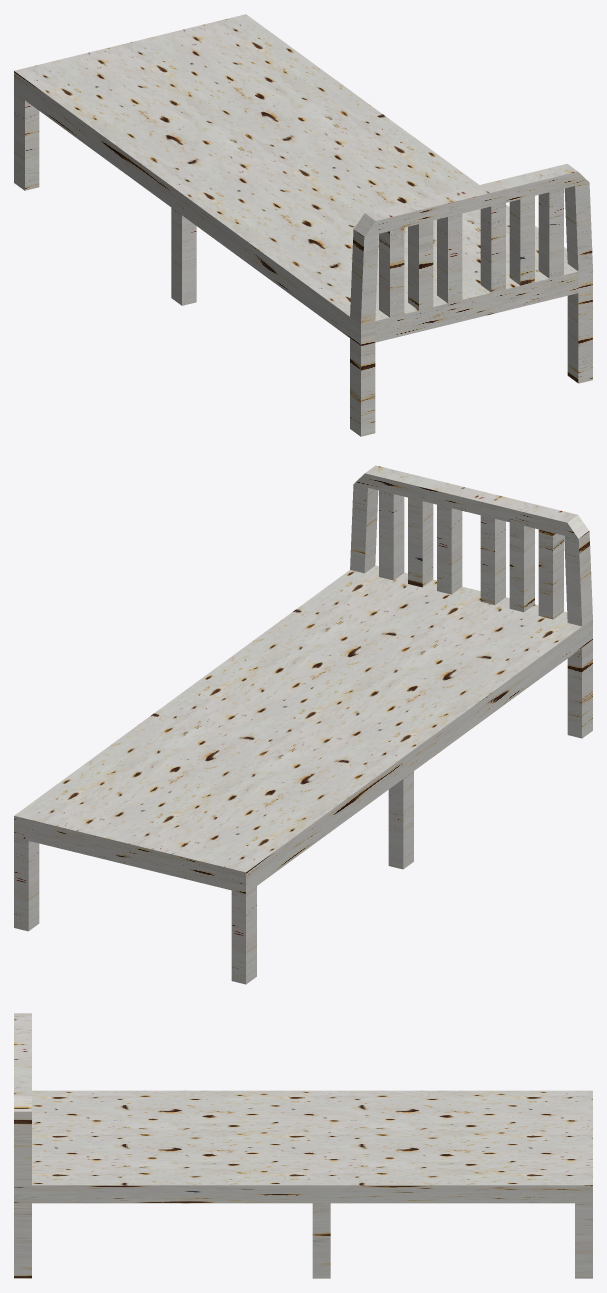
The model's file is PrisonBedFrame.fbx.
The picture shows the model from 3 angles, top to bottom: view 1: azimuth 30°, elevation 25°; view 2: azimuth 150°, elevation 25°; view 3: azimuth 270°, elevation 25°; orthographic projection. The views are drawn at different scales.
Parts seen in each view (by area): view 1: Cube; view 2: Cube; view 3: Cube.
Boxes of the visible parts, bbox=[...] form: Cube: bbox=[14, 14, 592, 436]; Cube: bbox=[14, 465, 592, 984]; Cube: bbox=[14, 1013, 592, 1278].
Size of the model in its own units: 204 by 178 by 528.
1 material, 1 textured.
